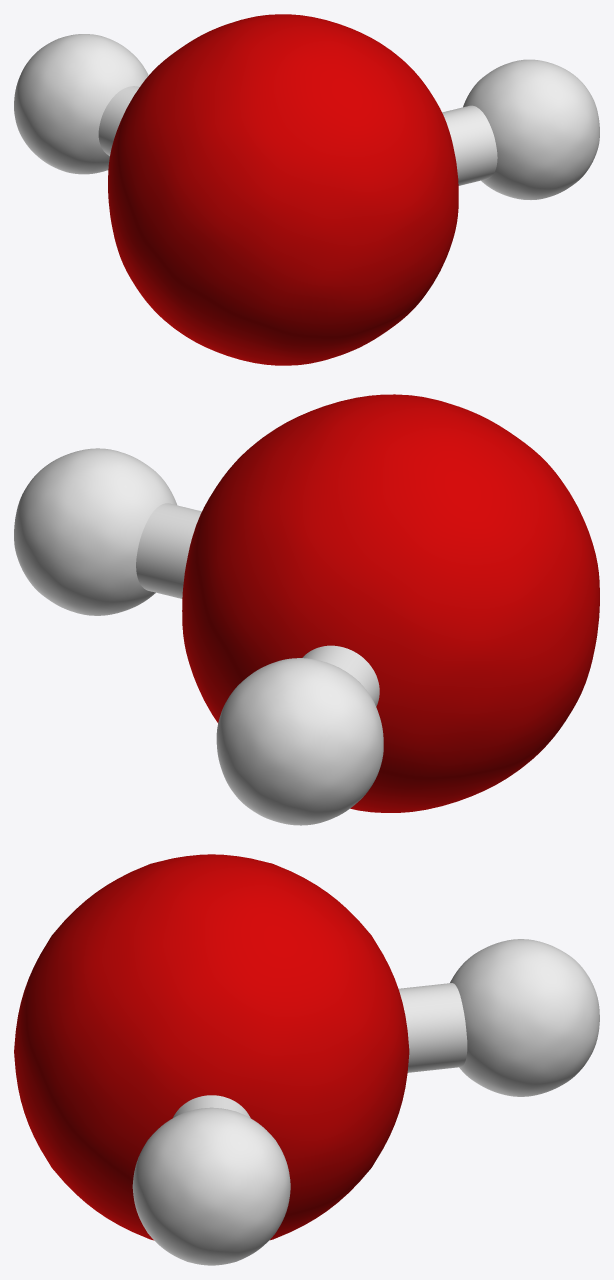
File: molecolaH2O.fbx
The picture shows the model from 3 angles, top to bottom: view 1: azimuth 30°, elevation 25°; view 2: azimuth 150°, elevation 25°; view 3: azimuth 270°, elevation 25°; orthographic projection. The views are drawn at different scales.
Parts seen in each view (by area): view 1: O, H1, H2; view 2: O, H2, H1; view 3: O, H2, H1.
Boxes of the visible parts, bbox=[...] form: O: bbox=[108, 14, 458, 365]; H1: bbox=[442, 59, 599, 199]; H2: bbox=[14, 34, 148, 174]; O: bbox=[182, 394, 599, 812]; H2: bbox=[216, 645, 383, 825]; H1: bbox=[14, 448, 201, 615]; O: bbox=[14, 854, 409, 1240]; H2: bbox=[398, 939, 599, 1096]; H1: bbox=[132, 1095, 290, 1265].
Bounding box in the file's own units: 559 × 373 × 550.
